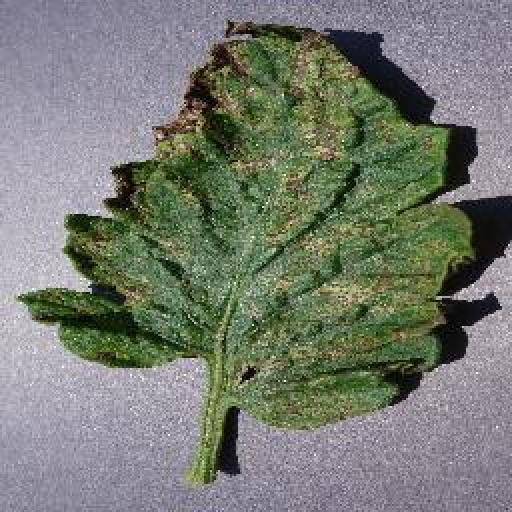disease_tomato: (15, 18, 475, 430)
